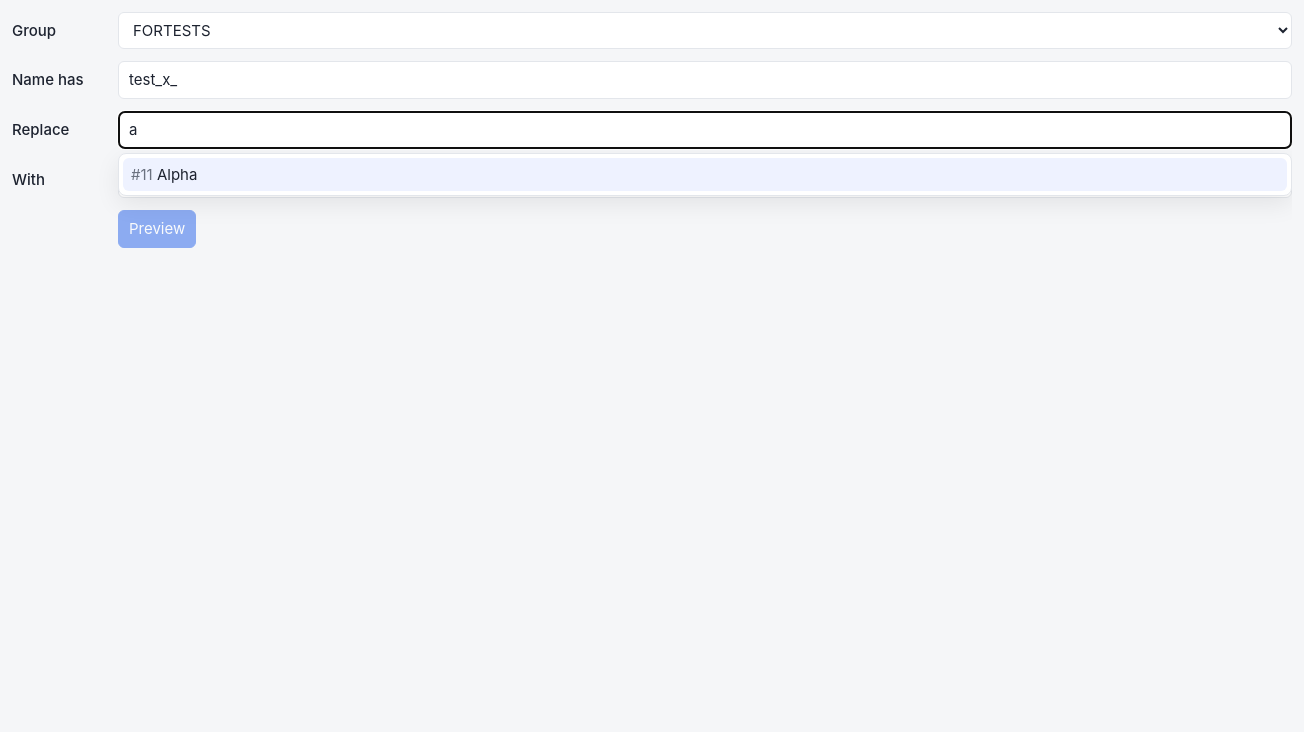
Test case: BulkForm › previews, lets you deselect, and applies only the chosen streams
The width and height of the screenshot is (1304, 732).
Earlier steps of the test are not shown.
Click the option "#11 Alpha": [177, 174] box [123,158,1287,191]
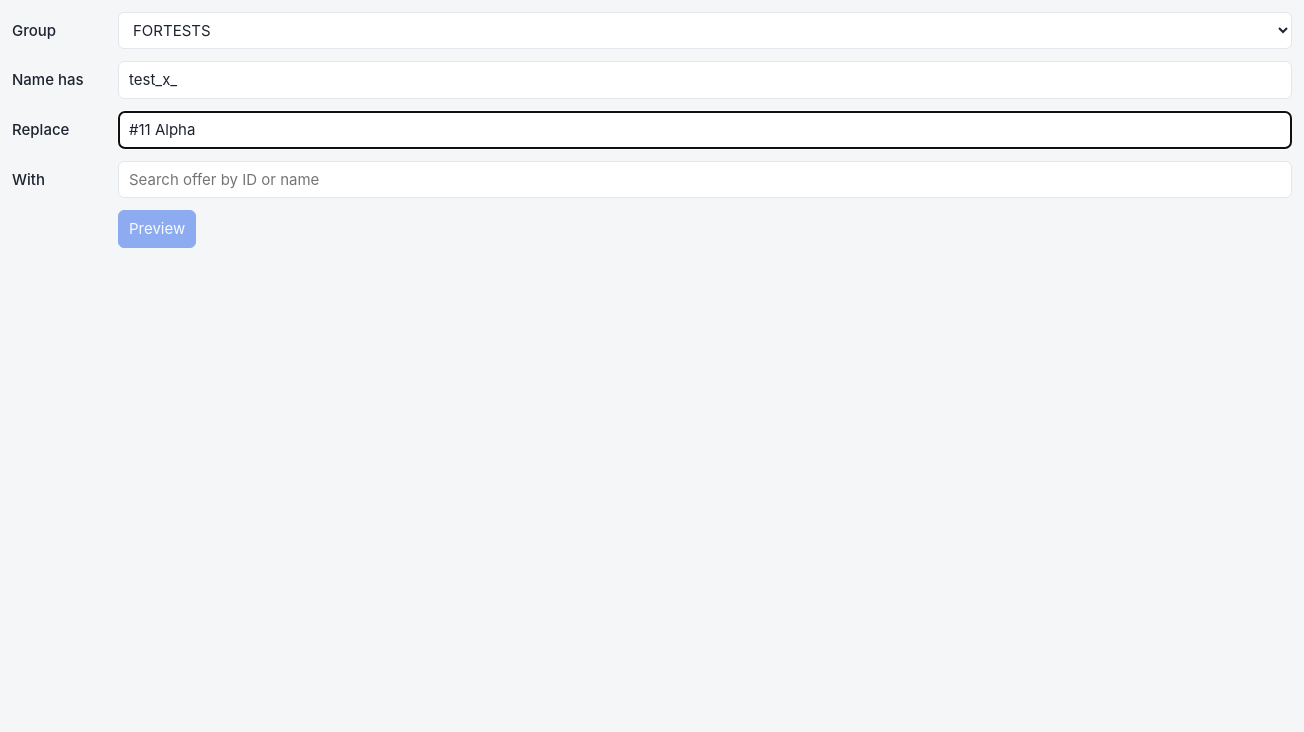
In the dropdown labelled "With": [705, 179] box [118,160,1292,198], type "o"
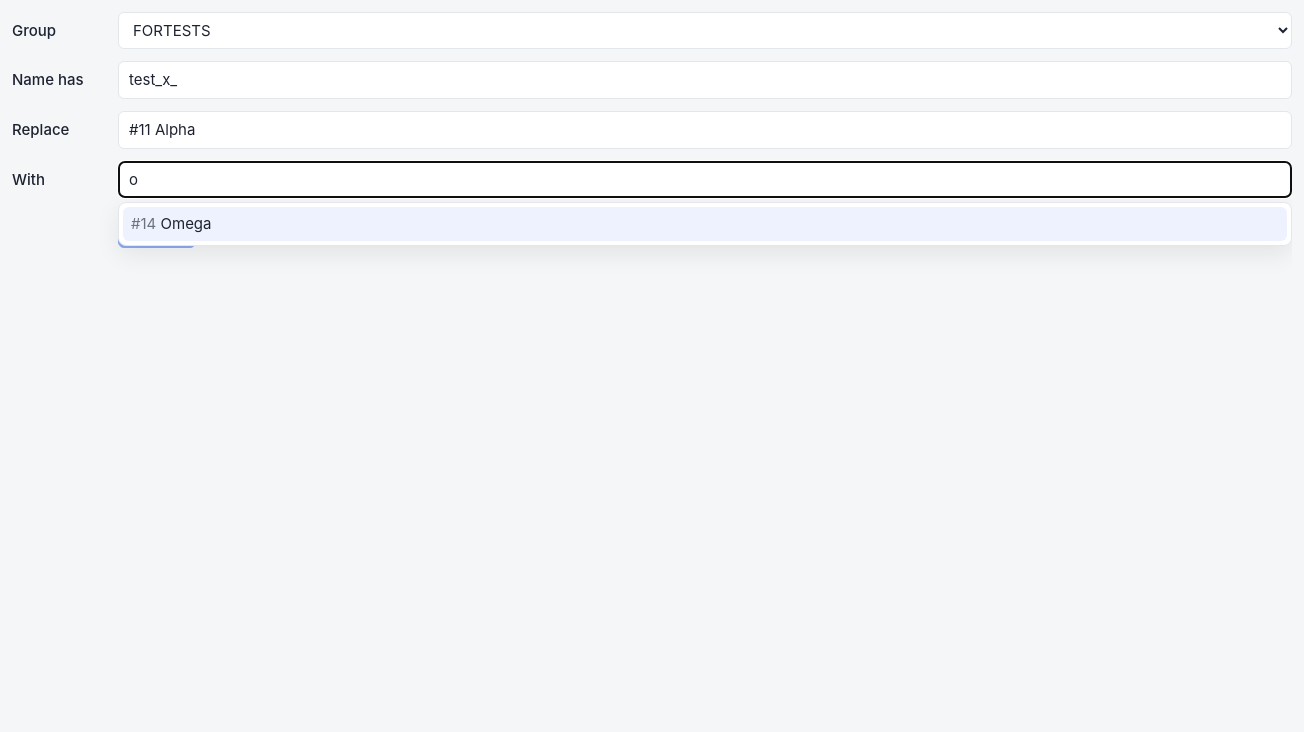
Click the option "#14 Omega": [186, 224] box [123,207,1287,241]
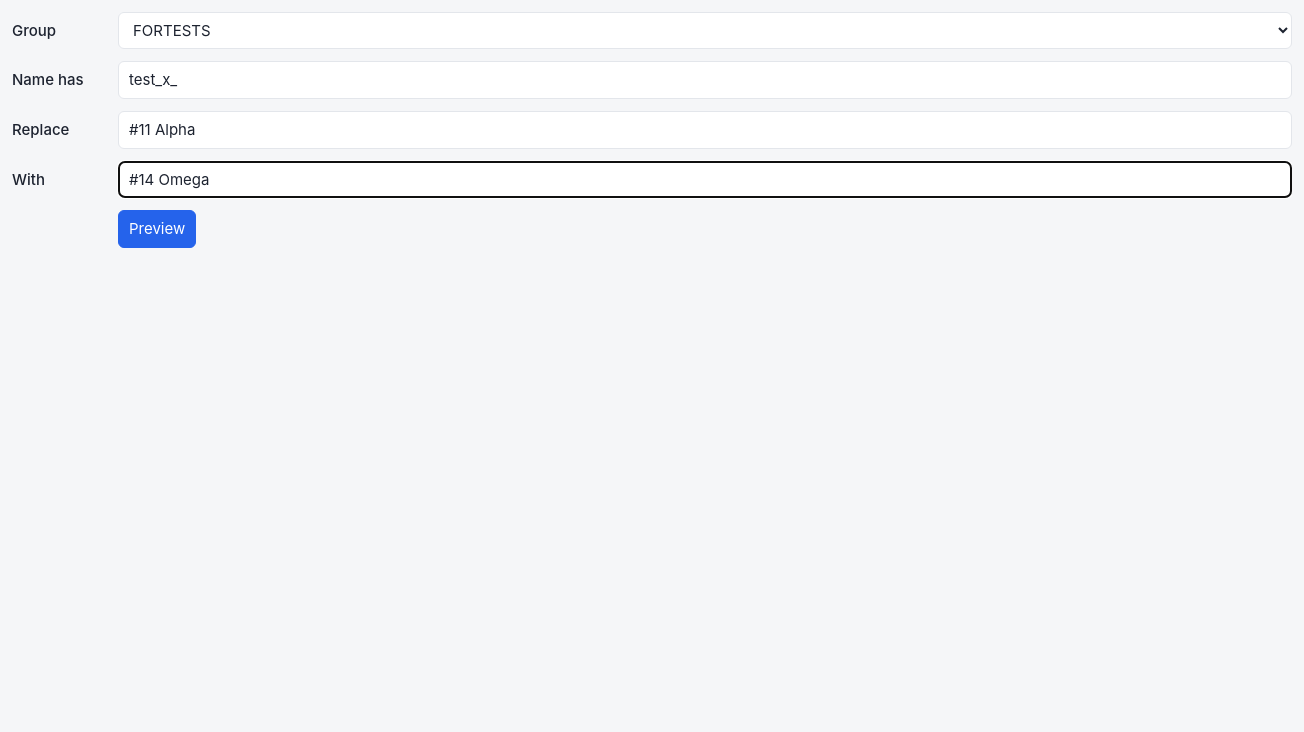
Click the button "Preview": [157, 229] box [118,210,196,248]
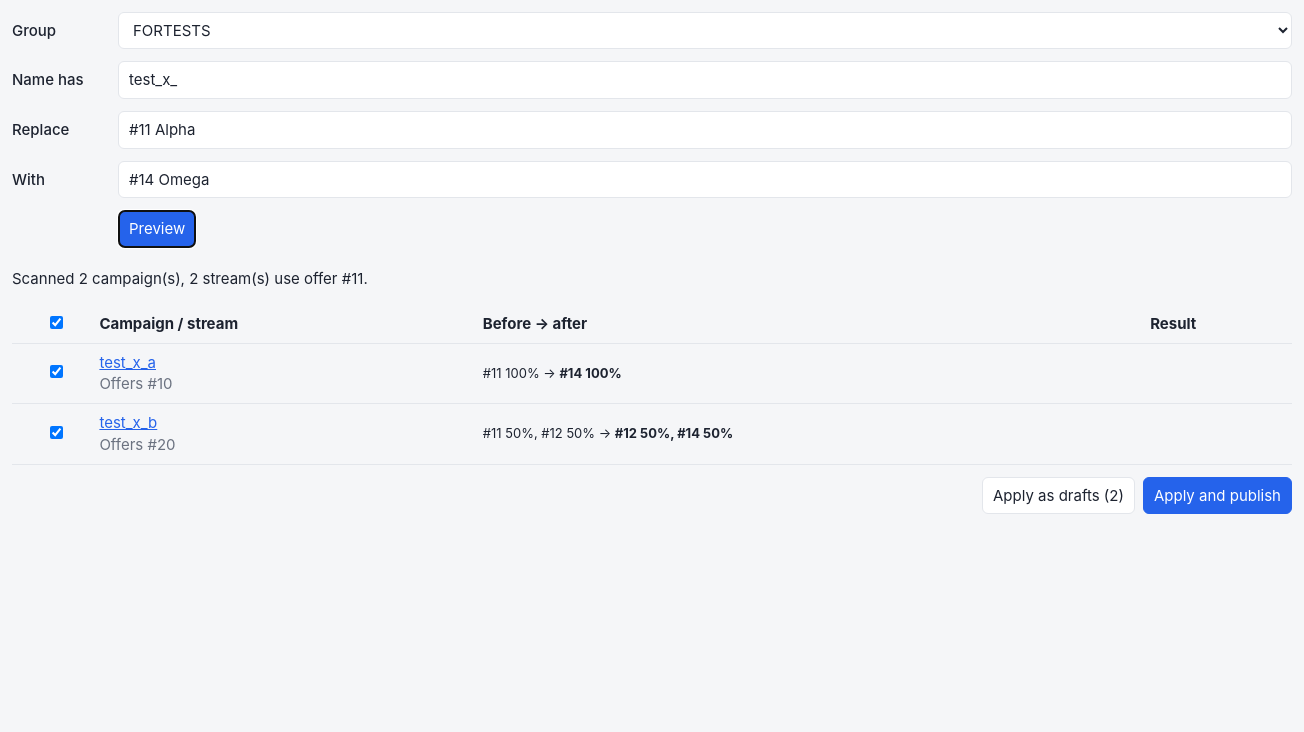
Expected: the text "Scanned 2 campaign(s), 2 stream(s) use offer #11." is shown, [12,269,368,288]
Expected: the text "#11 50%, #12 50% → #12 50%, #14 50%" is shown, [477,404,1144,464]
Expected: the text "#12 50%, #14 50%" is shown, [615,425,733,441]
Click the checkbox named "Select stream 10": [57, 372] box [22,365,91,378]
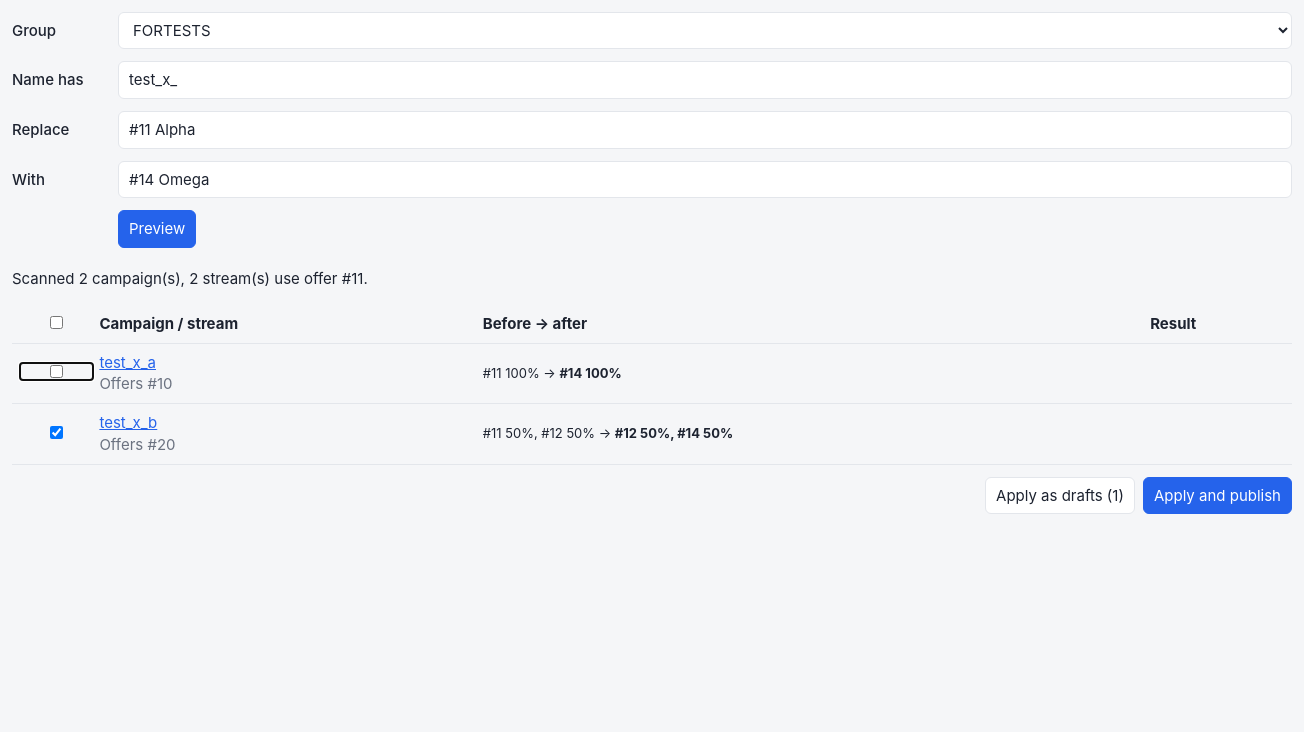
Click the button "Apply as drafts (1)": [1060, 495] box [985,476,1135,514]
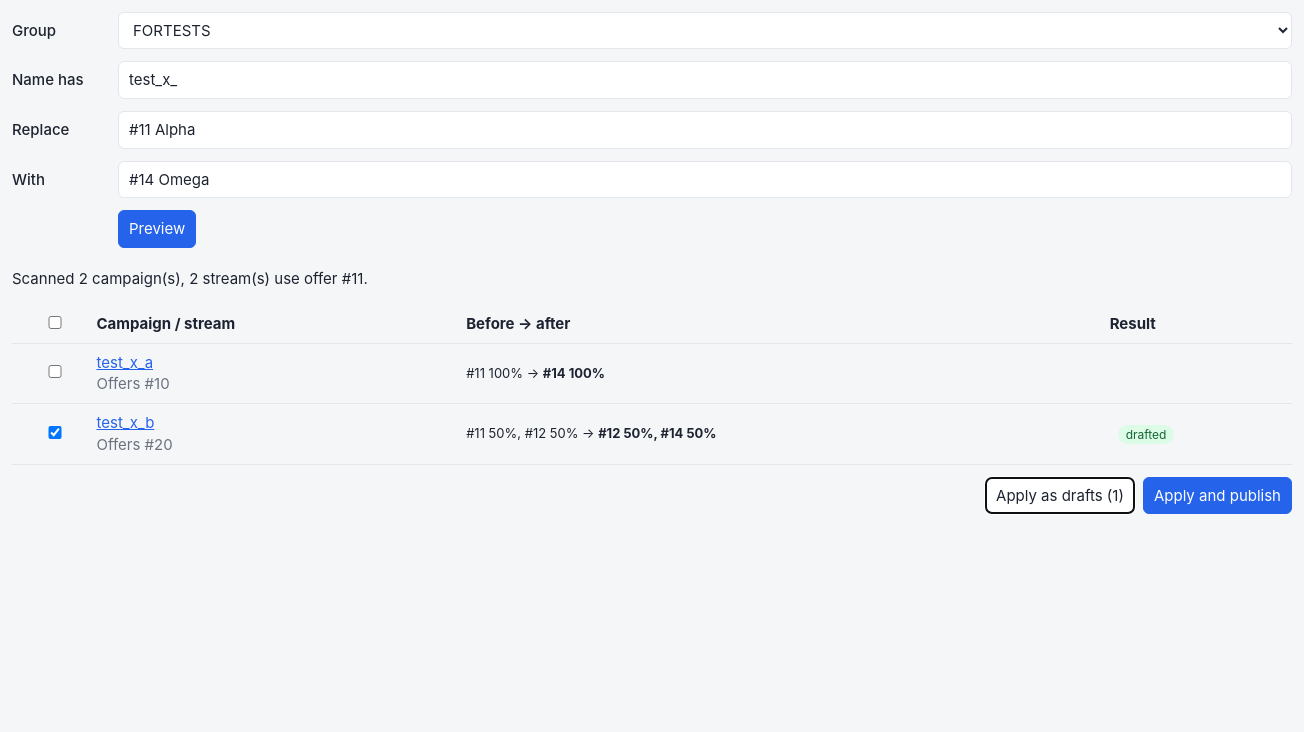
Expected: the text "drafted" is shown, [1118,425,1174,444]
